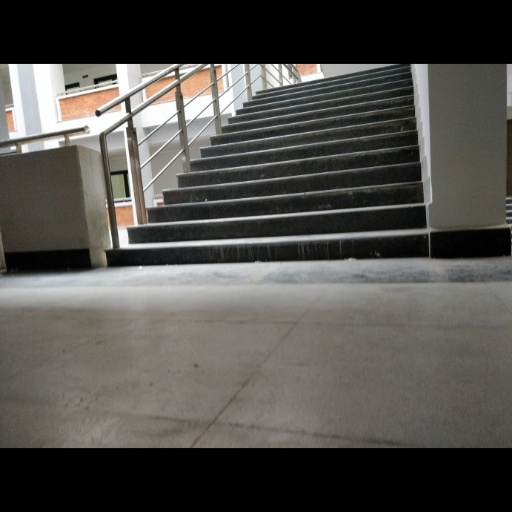Stairs: (107, 65, 428, 266)
